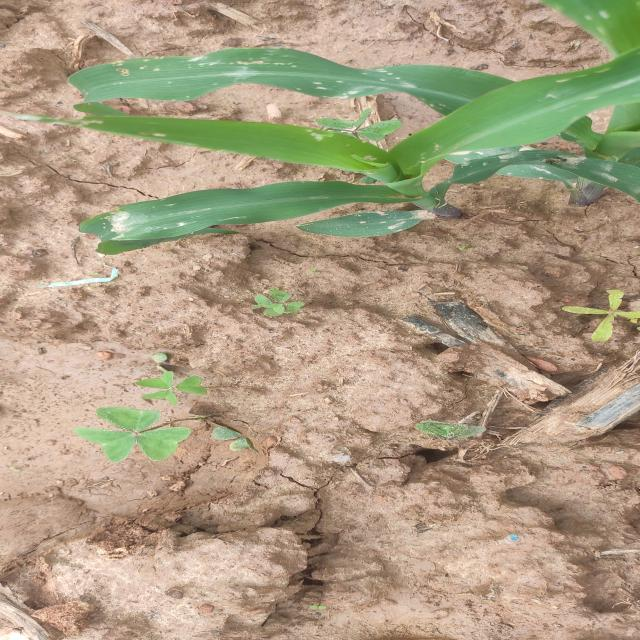maize: (22, 0, 640, 256)
weed: (73, 359, 257, 458), (215, 285, 337, 331), (394, 407, 508, 447), (546, 287, 640, 334)
